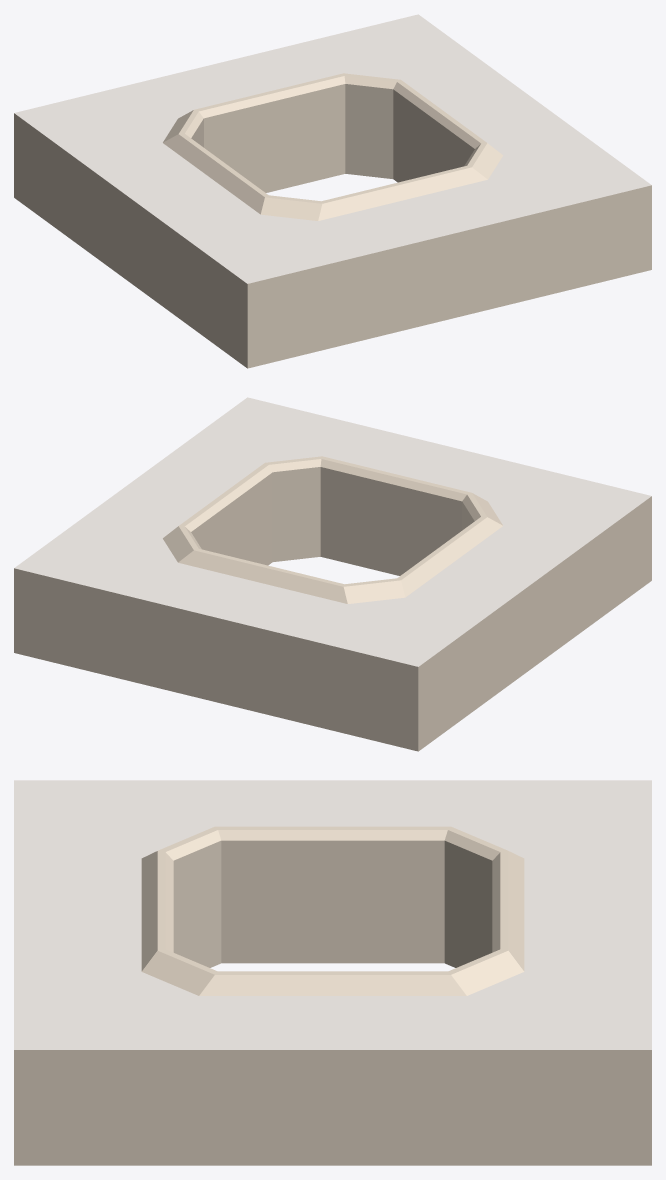
File: Puzzle_Floor_Conduit_Control_Housing_Unconnected.glb
The picture shows the model from 3 angles, top to bottom: view 1: azimuth 30°, elevation 25°; view 2: azimuth 150°, elevation 25°; view 3: azimuth 270°, elevation 25°; orthographic projection. The views are drawn at different scales.
Parts seen in each view (by area): view 1: Puzzle_Floor_Conduit_Control_Housing_Unconnected; view 2: Puzzle_Floor_Conduit_Control_Housing_Unconnected; view 3: Puzzle_Floor_Conduit_Control_Housing_Unconnected.
Part boxes in pixels (<box>): Puzzle_Floor_Conduit_Control_Housing_Unconnected: <box>14,14,651,368</box>; Puzzle_Floor_Conduit_Control_Housing_Unconnected: <box>14,397,651,751</box>; Puzzle_Floor_Conduit_Control_Housing_Unconnected: <box>14,780,651,1165</box>.
Bounding box in the file's own units: 1 × 0.225 × 1.
